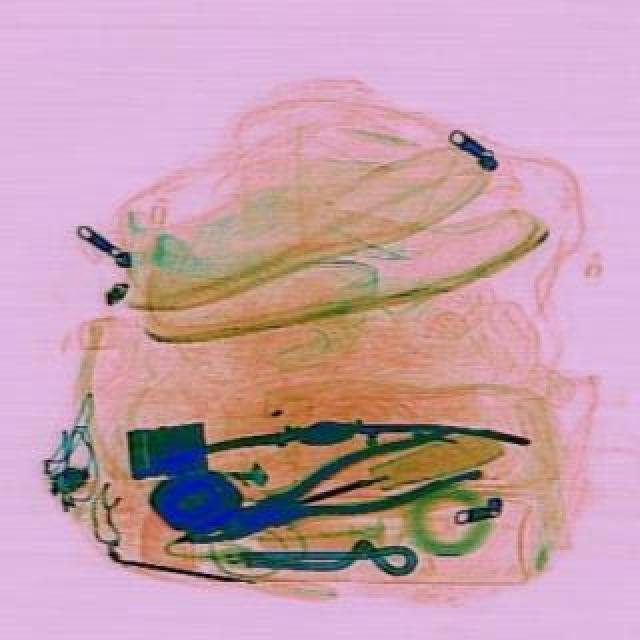wrench: (182, 414, 488, 566)
